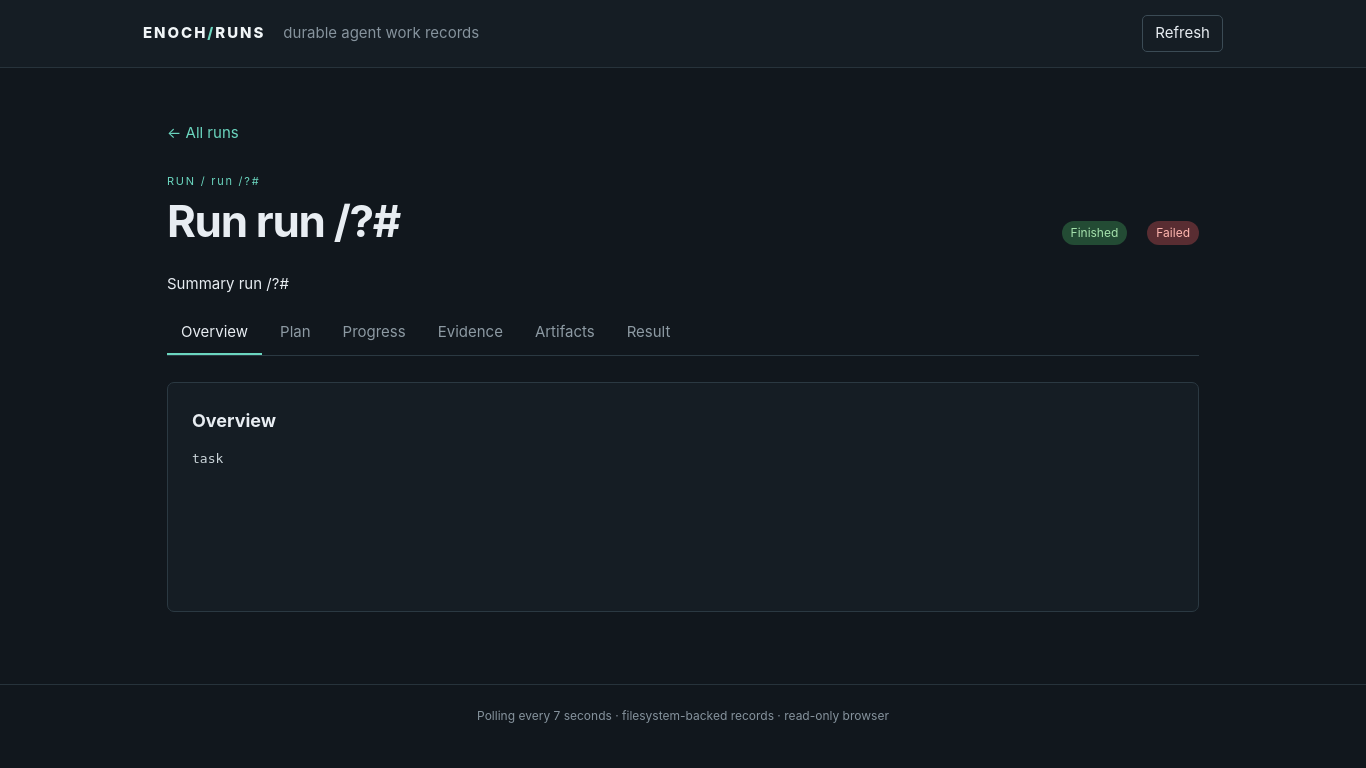
Test case: artifact downloads › renders artifact metadata and a visible download link
Step 1. Click the button "artifacts" → click(565, 333), box x1=521 y1=311 x2=609 y2=355
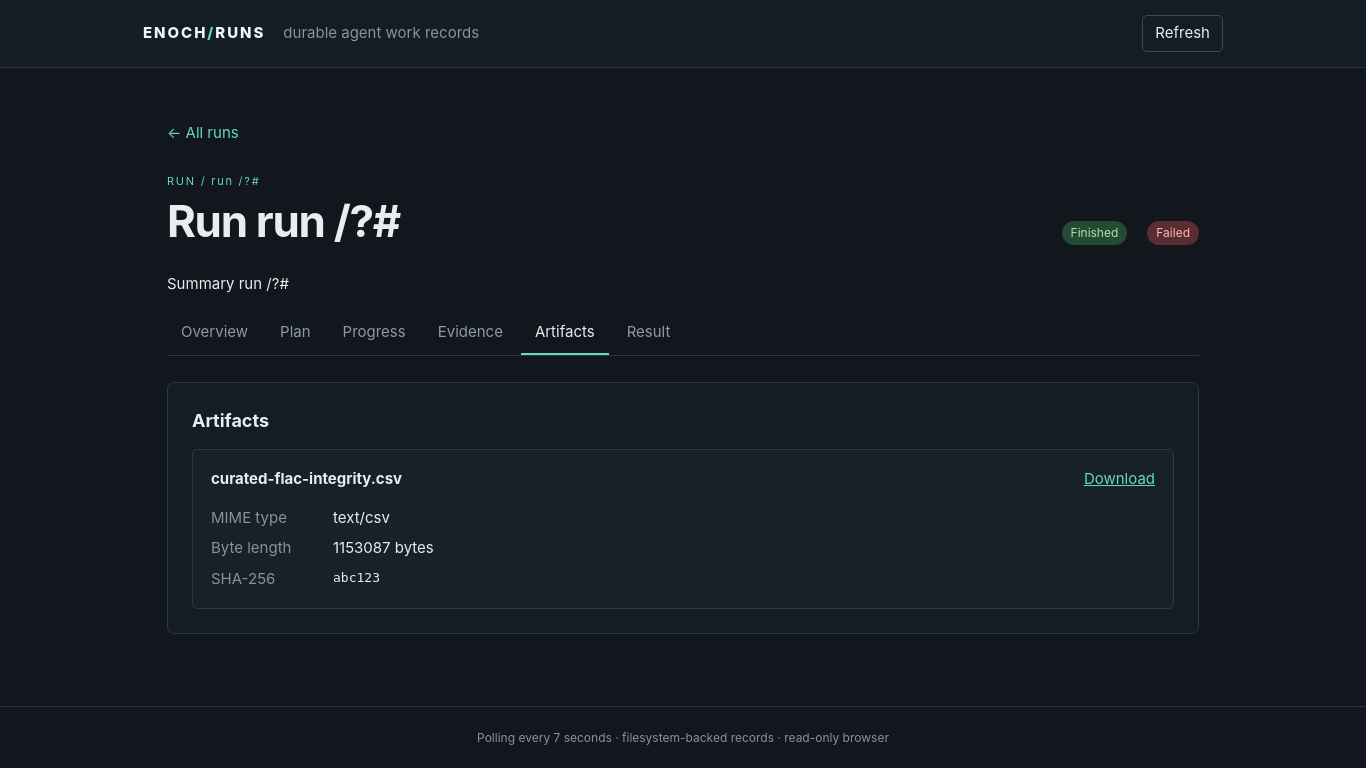
Expected: the text "curated-flac-integrity.csv" is shown, x1=211 y1=468 x2=402 y2=491
Expected: the text "text/csv" is shown, x1=333 y1=508 x2=390 y2=527
Expected: the text "abc123" is shown, x1=333 y1=570 x2=380 y2=585
